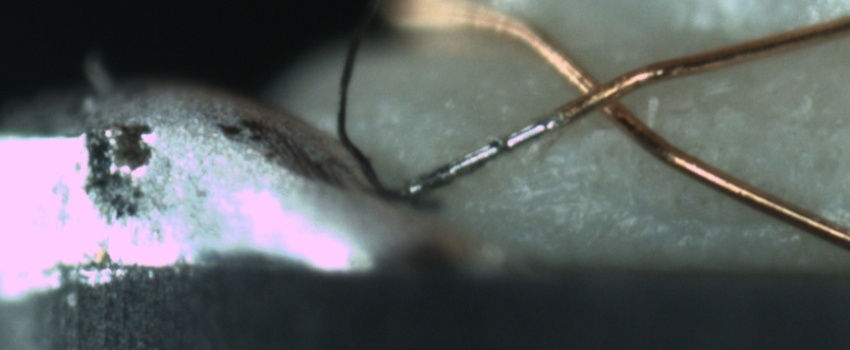CL: (560, 54, 644, 128)
TS: (393, 113, 564, 201)
